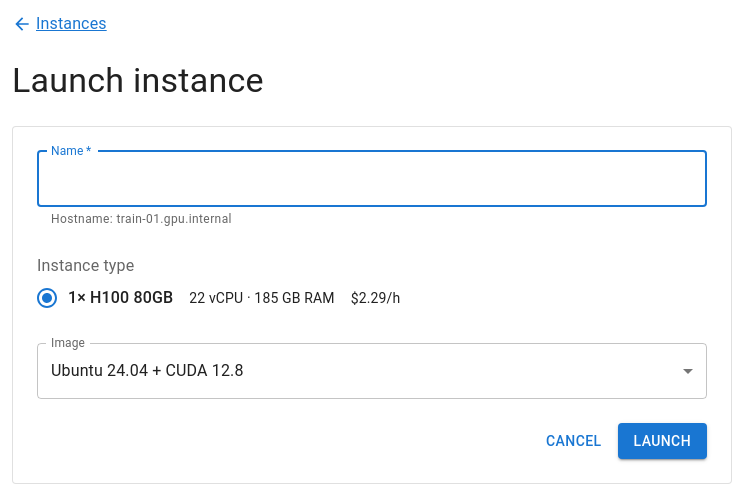
Test: LaunchInstancePage › puts a rejected name next to the name field
This screenshot has width=749, height=501.
In the field labelled "Name *": point(372, 179) [37,151,707,207], type "train-01"
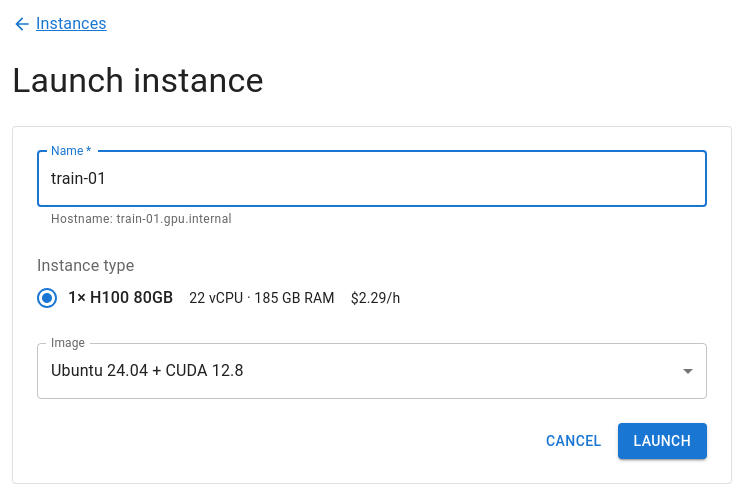
Click the button "Launch": point(662, 441) [618,423,707,459]
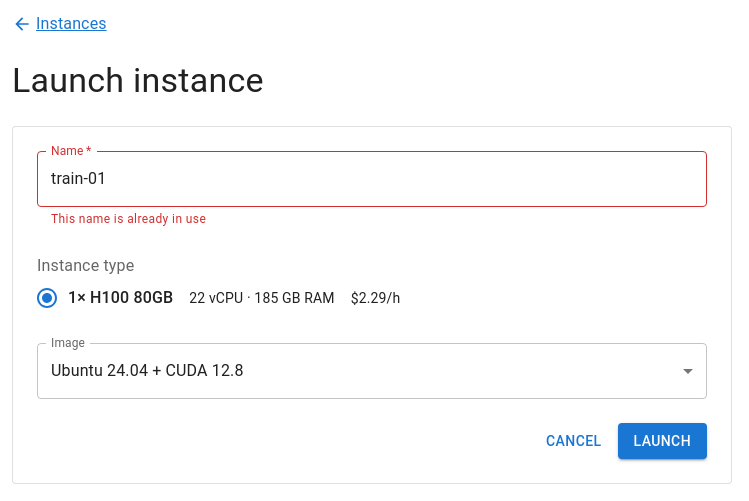
Expected: the text "This name is already in use" is shown, [51,212,206,226]
